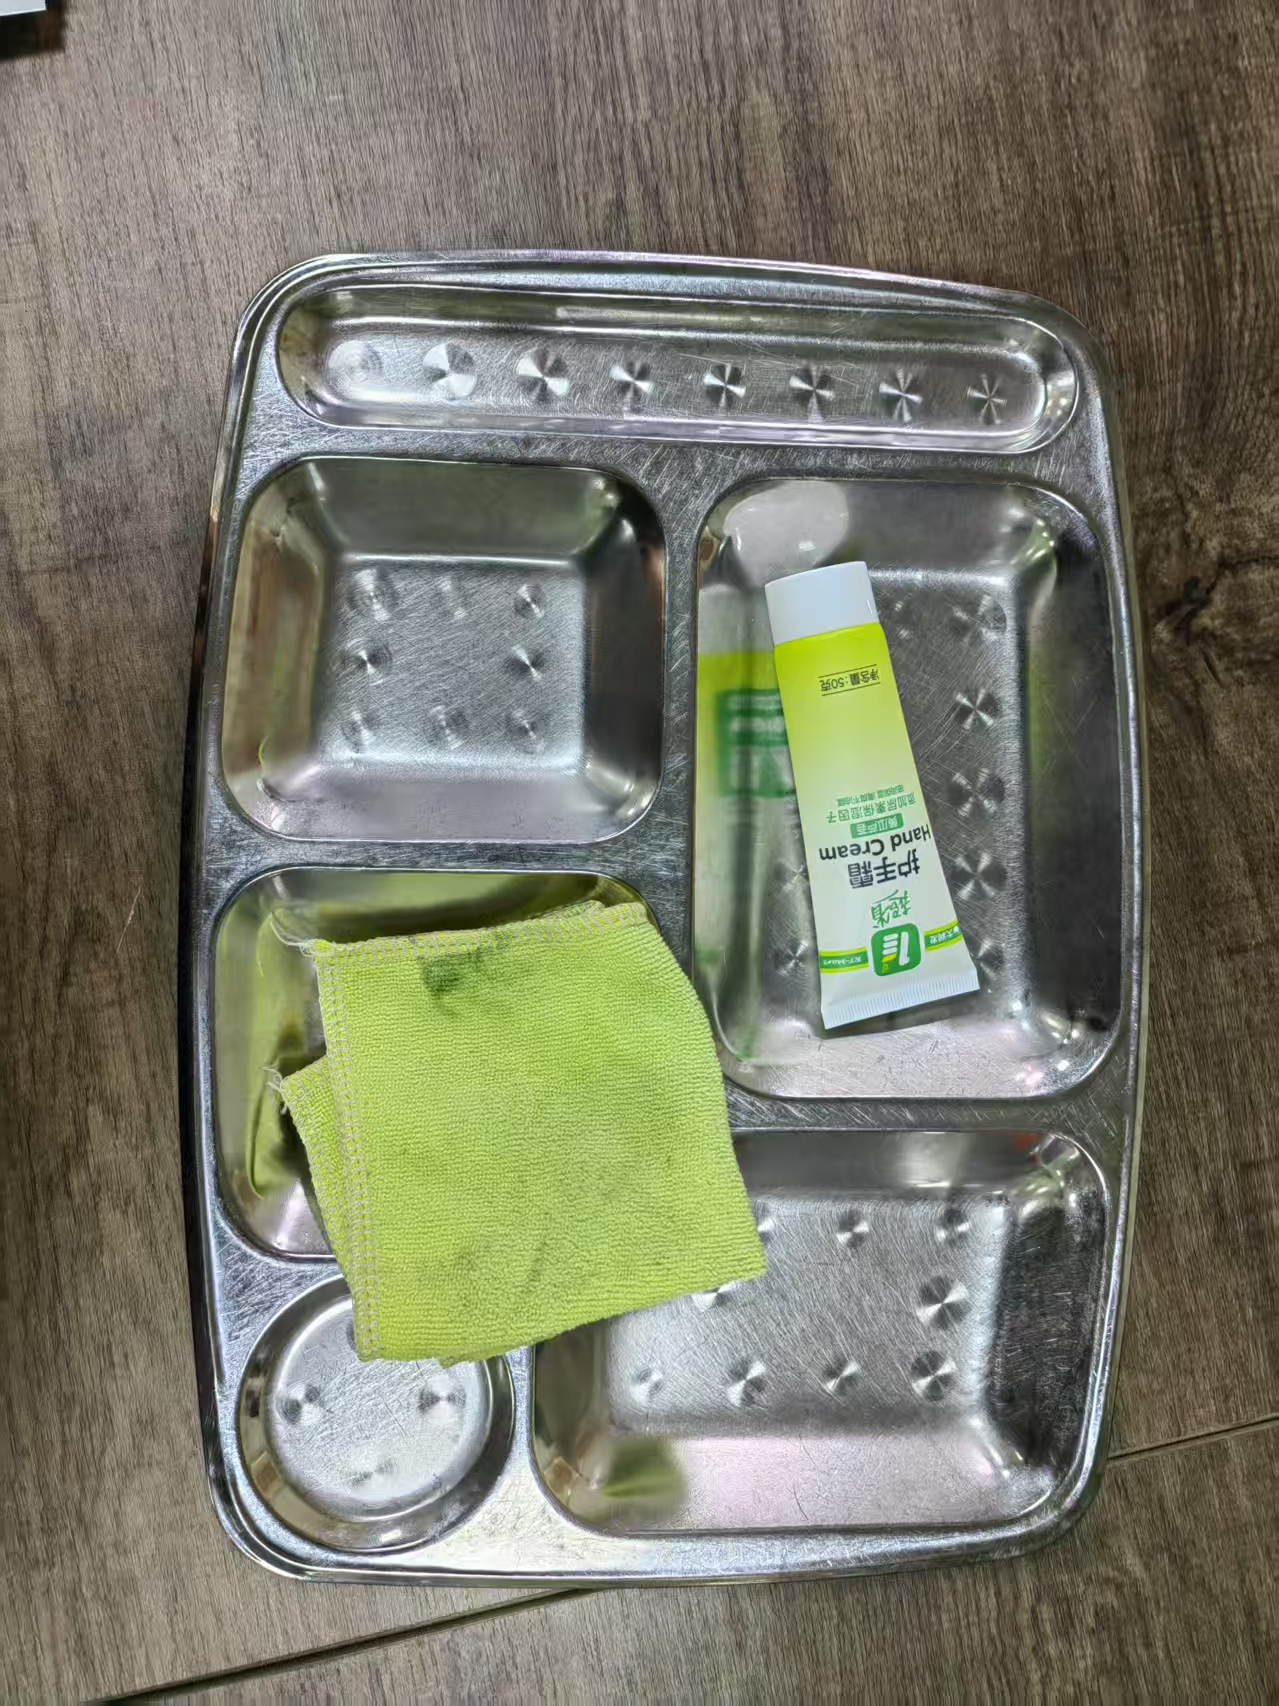moderate: (282, 562, 985, 1359)
plate: (187, 249, 1154, 1585)
